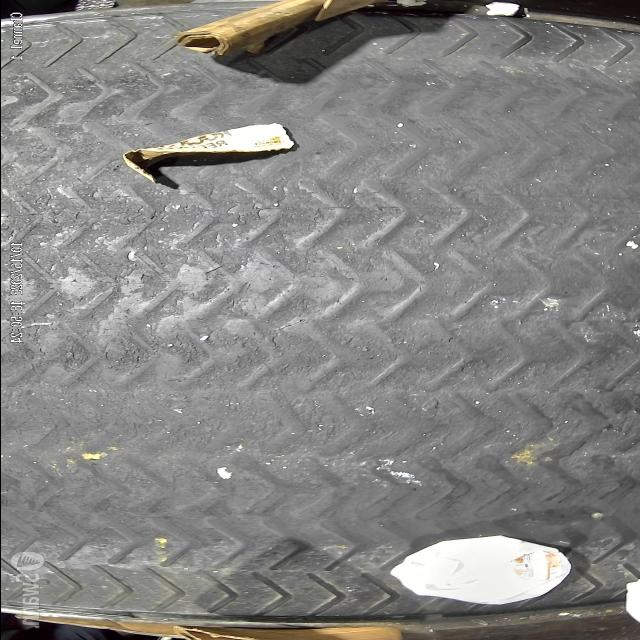milk_jug: (391, 536, 571, 606)
